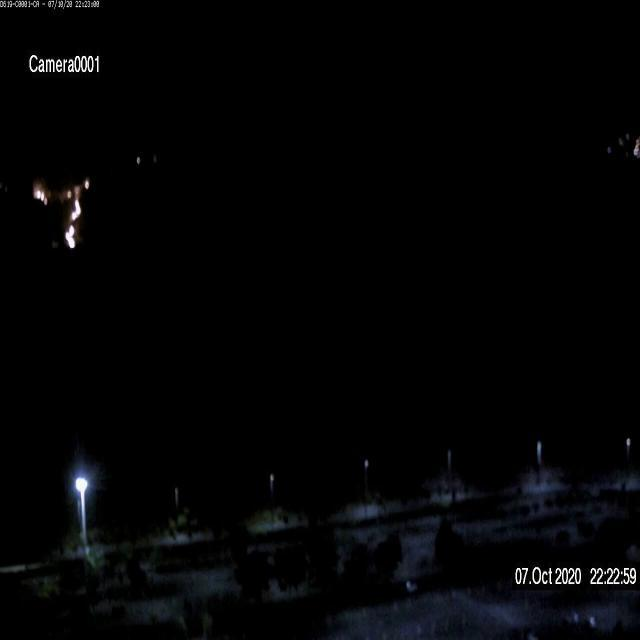Fire: (61, 186, 84, 248), (33, 180, 49, 202)
